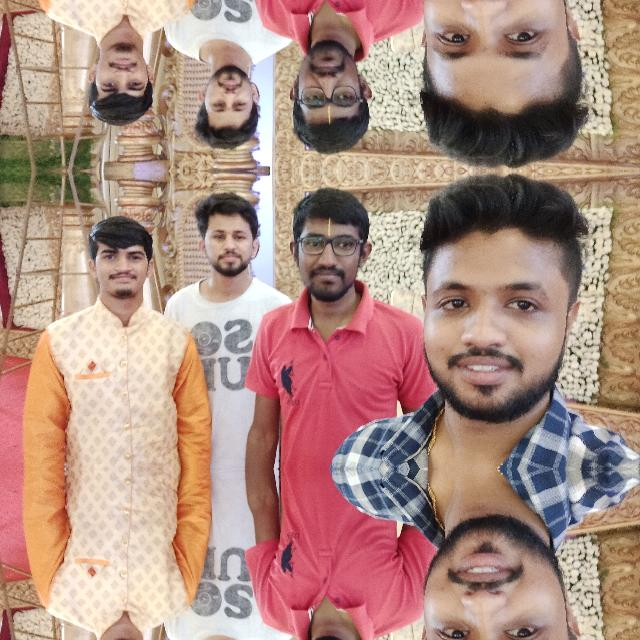person: (406, 172, 638, 438), (405, 0, 638, 167), (405, 498, 638, 640), (278, 183, 384, 377), (58, 200, 172, 380), (177, 182, 266, 384), (278, 0, 384, 157), (57, 0, 172, 140), (176, 0, 265, 158), (57, 556, 172, 640), (278, 559, 384, 640), (176, 551, 265, 640)
